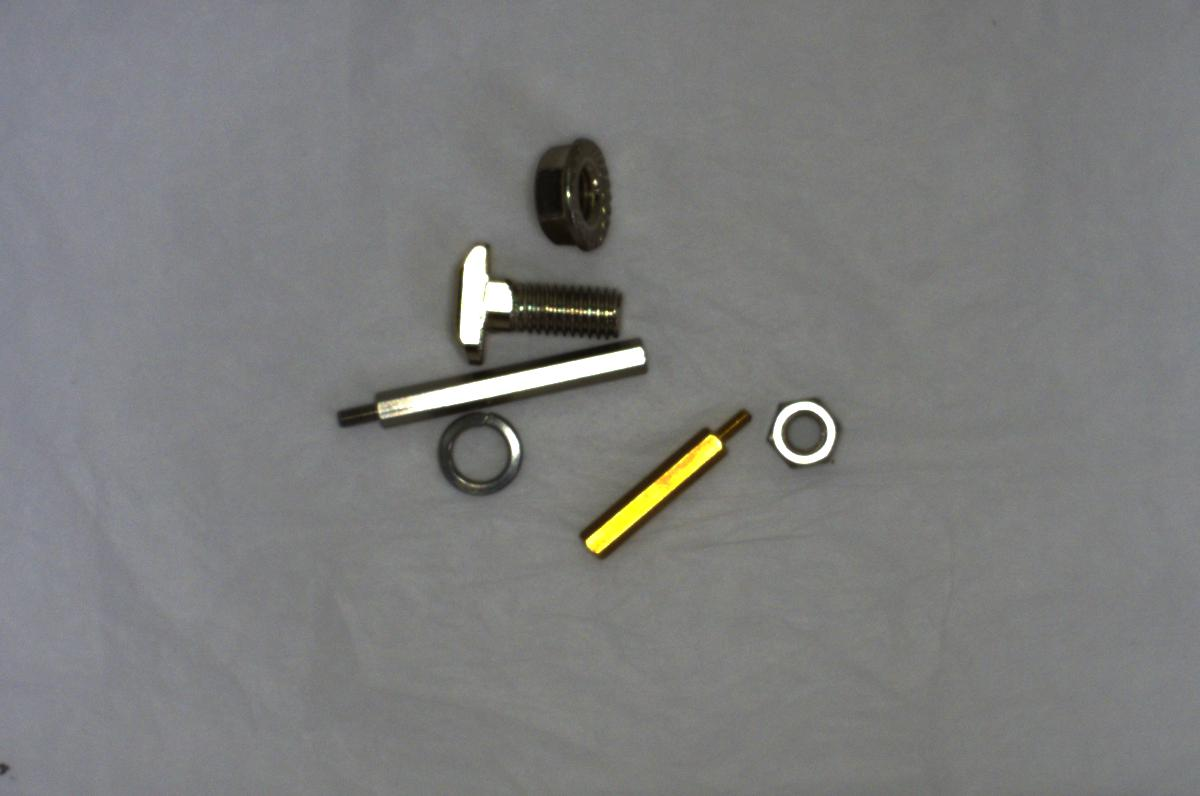Flange nut: (514, 124, 621, 256)
Hexagon nut: (764, 386, 851, 482)
Hexagon pillar: (558, 403, 758, 558)
Hexagonal steel column: (321, 335, 662, 430)
Spring washer: (424, 406, 529, 505)
T-shaped screw: (448, 233, 635, 363)
